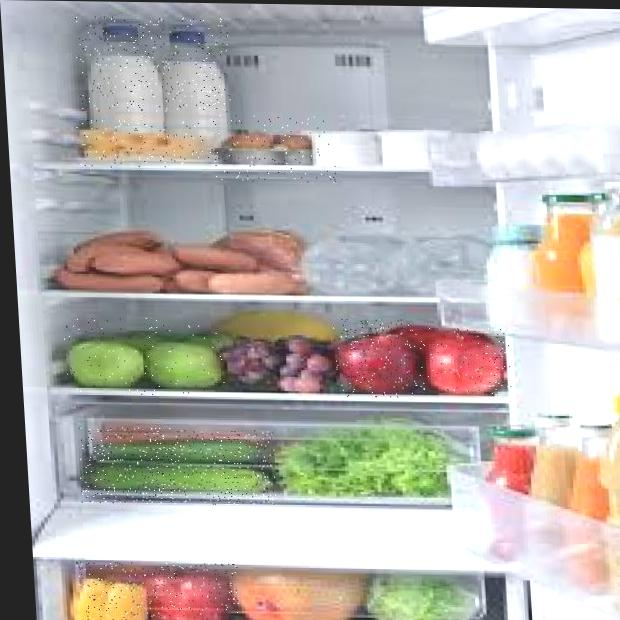apple: (60, 316, 226, 397), (410, 328, 512, 394), (333, 319, 414, 398)
cheese: (77, 120, 205, 169)
courgettes: (77, 427, 277, 506)
eggs: (206, 115, 339, 183)
milk: (74, 16, 233, 113)
peppers: (76, 562, 241, 620)
